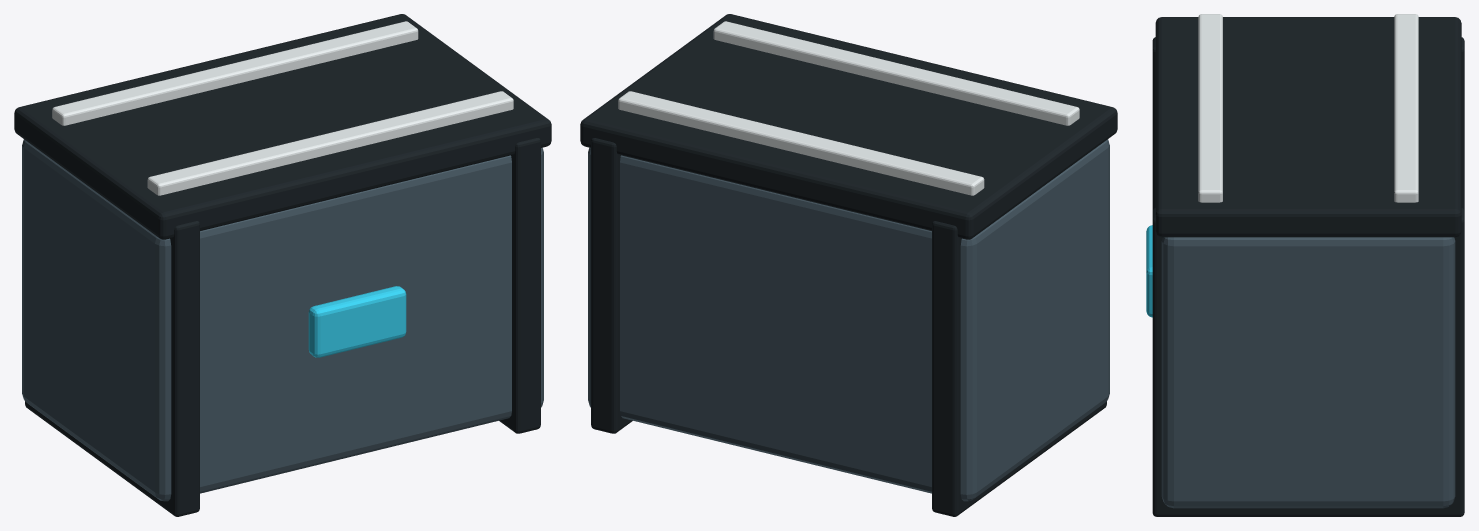
The model's file is SM_CajaSuministros.fbx.
The picture shows the model from 3 angles, left to right: view 1: azimuth 30°, elevation 25°; view 2: azimuth 150°, elevation 25°; view 3: azimuth 270°, elevation 25°; orthographic projection. The views are drawn at different scales.
Visible parts, largest first — view 1: SM_CajaSuministros; view 2: SM_CajaSuministros; view 3: SM_CajaSuministros.
Part boxes in pixels (x1=…): SM_CajaSuministros: x1=14, y1=14, x2=551, y2=516; SM_CajaSuministros: x1=580, y1=14, x2=1117, y2=516; SM_CajaSuministros: x1=1146, y1=14, x2=1464, y2=516.
Bounding box in the file's own units: 76 × 52 × 58.5.
